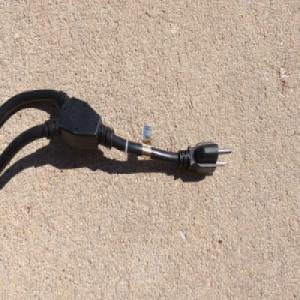Wire: (0, 86, 234, 194)
